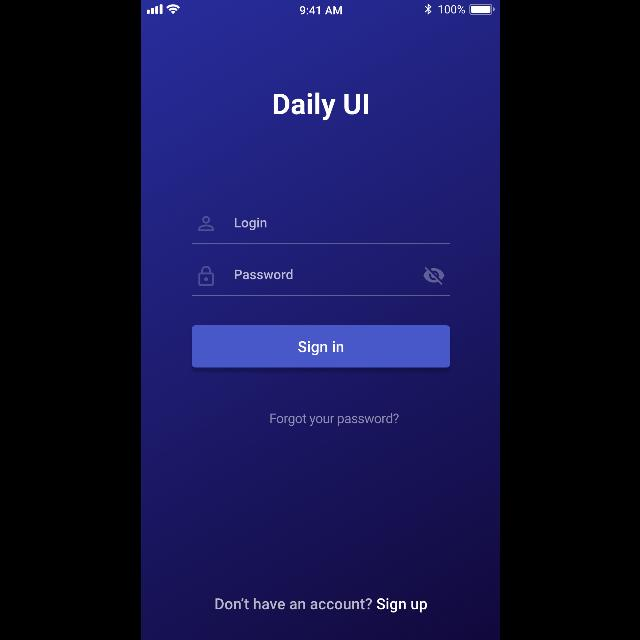icon: (424, 266, 444, 286), (198, 266, 212, 286), (198, 216, 214, 232)
input: (192, 266, 450, 296), (192, 216, 450, 244)
text: (215, 598, 427, 612), (272, 92, 368, 121), (270, 412, 398, 426), (234, 270, 292, 280), (234, 218, 266, 230)
textbutton: (192, 326, 450, 368)
uppertaskbar: (140, 1, 500, 16)
